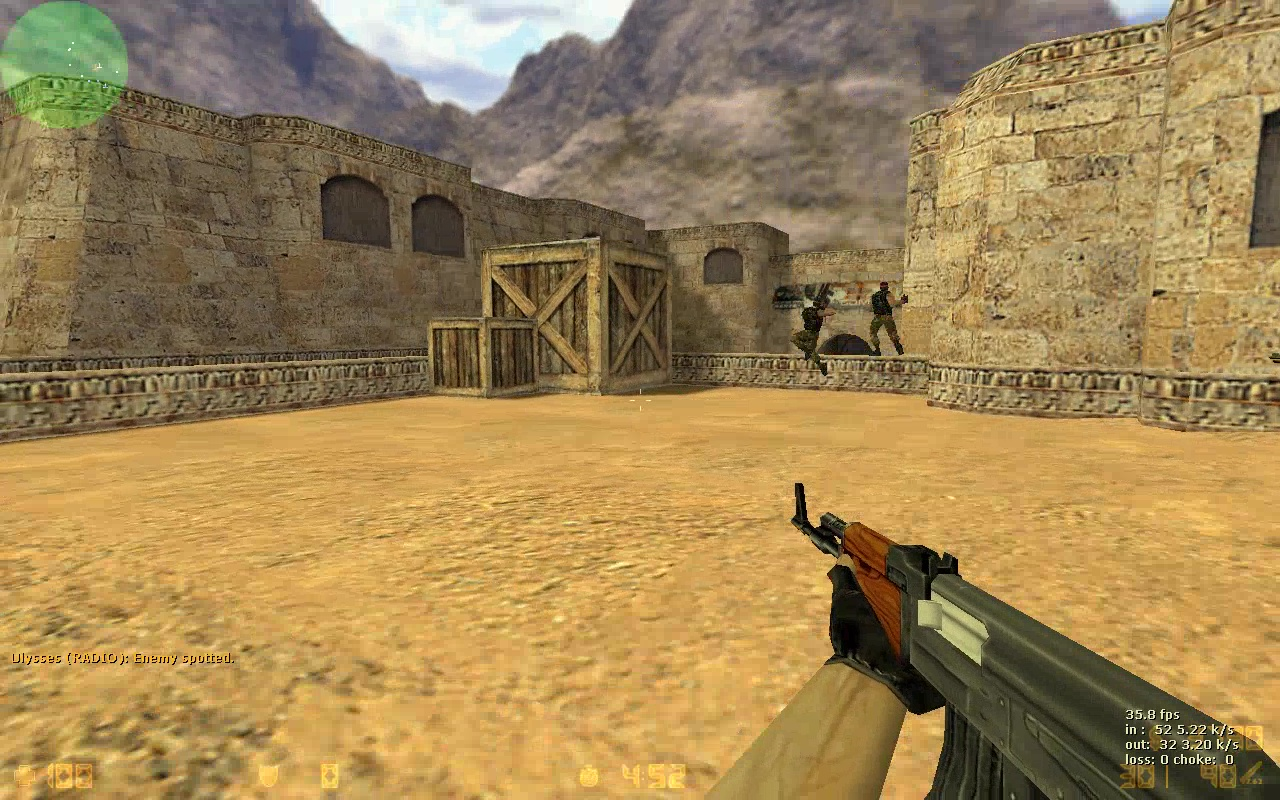terr1: (786, 300, 835, 372), (867, 280, 910, 356)
